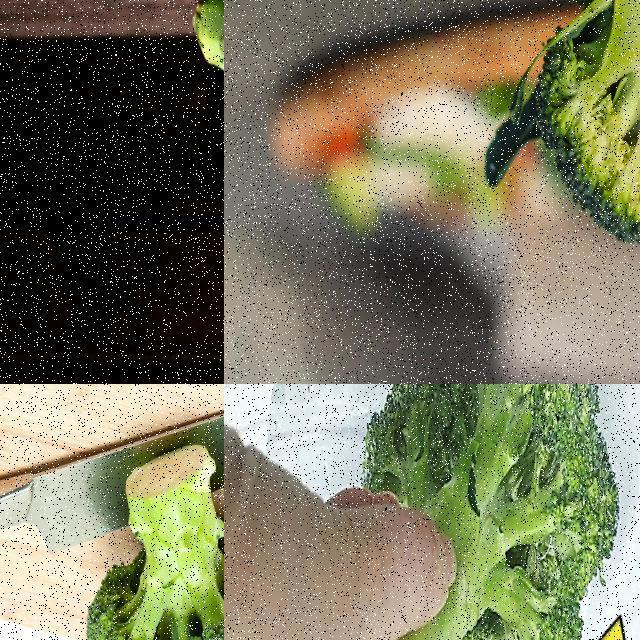broccoli: (343, 384, 622, 639), (510, 0, 639, 267), (85, 435, 223, 639)
